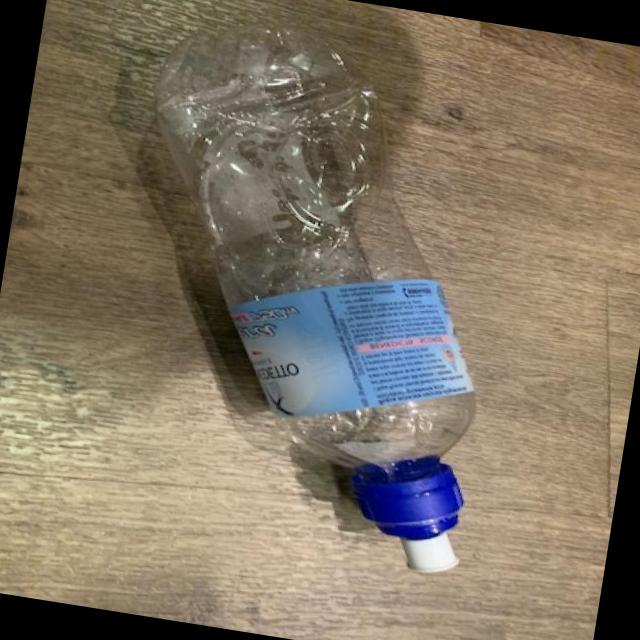plastic_bottle: (88, 9, 538, 578)
